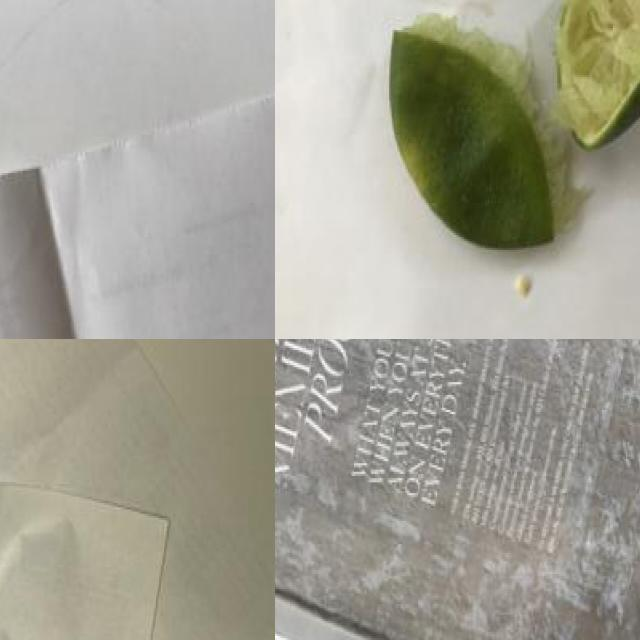compost: (365, 0, 640, 249)
paper: (275, 339, 640, 640), (0, 96, 275, 339), (0, 350, 223, 640)
